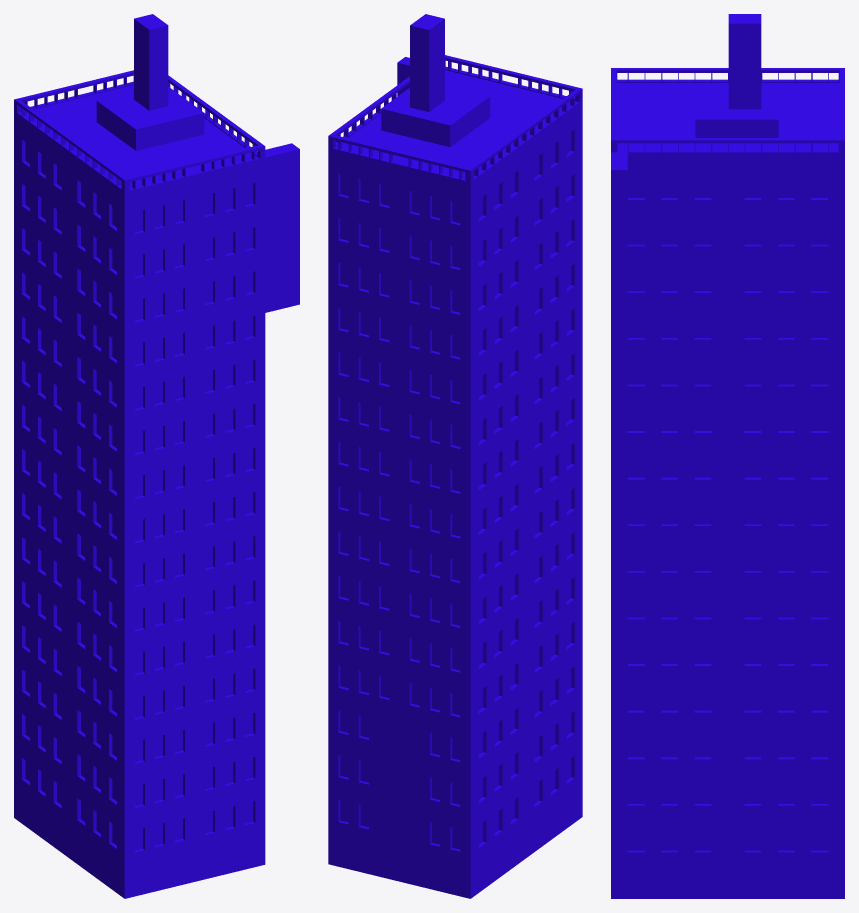
File: Rasca.fbx
3 views of the same model, side by side, from view 1: azimuth 30°, elevation 25°; view 2: azimuth 150°, elevation 25°; view 3: azimuth 270°, elevation 25° (orthographic). The views are drawn at different scales.
Visible parts, largest first — view 1: Object003; view 2: Object003; view 3: Object003.
Part boxes in pixels (box(x1,y1,x2,y2)): Object003: box(14, 14, 299, 898); Object003: box(328, 14, 582, 898); Object003: box(611, 14, 844, 898).
Bounding box in the file's own units: 28.56 × 126 × 31.28.
